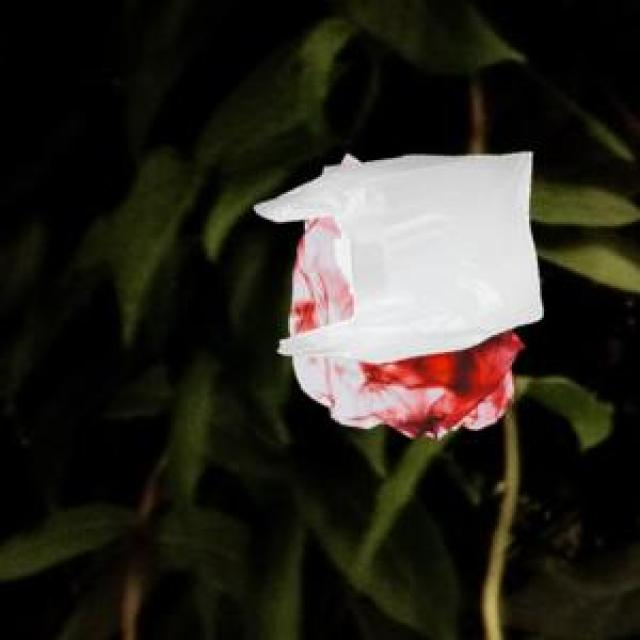plastic: (229, 124, 569, 471)
